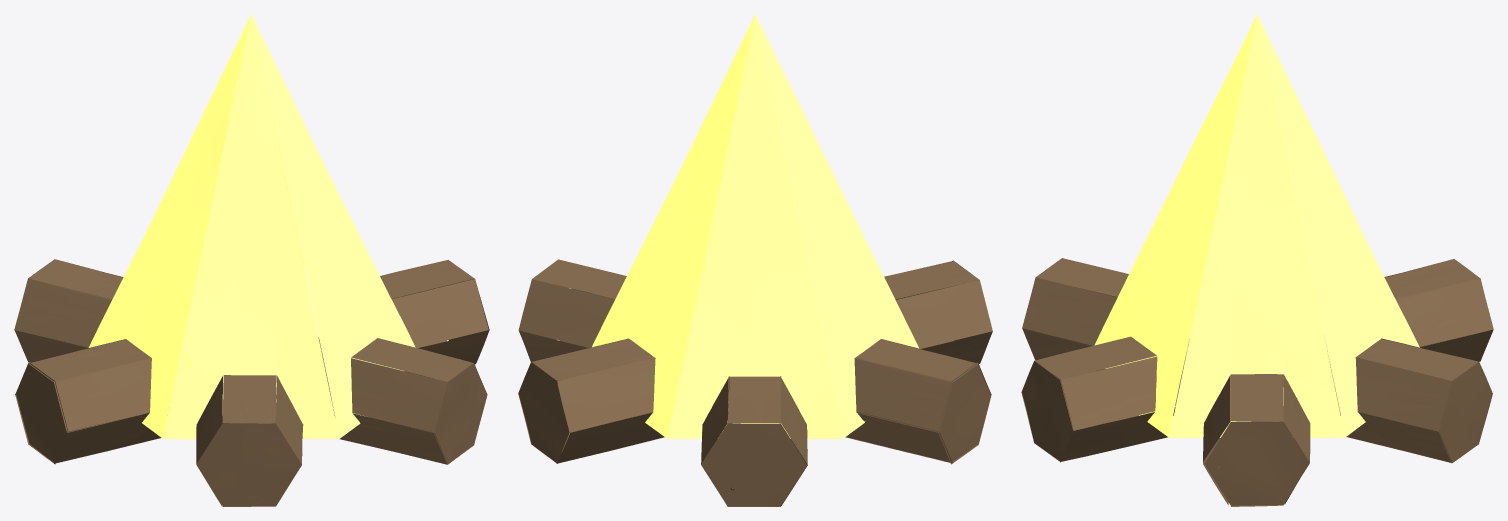
The model's file is campfire.glb.
3 renders of one model, left to right at view 1: azimuth 30°, elevation 25°; view 2: azimuth 150°, elevation 25°; view 3: azimuth 270°, elevation 25°, orthographic.
Parts seen in each view (by area): view 1: CampfireLog0; view 2: CampfireLog0; view 3: CampfireLog0.
Boxes of the visible parts, x1,y1,x2,y2 form: CampfireLog0: (14,14,489,506); CampfireLog0: (518,14,992,506); CampfireLog0: (1021,14,1493,506).
Bounding box in the file's own units: 1.11 × 0.98 × 1.07.
